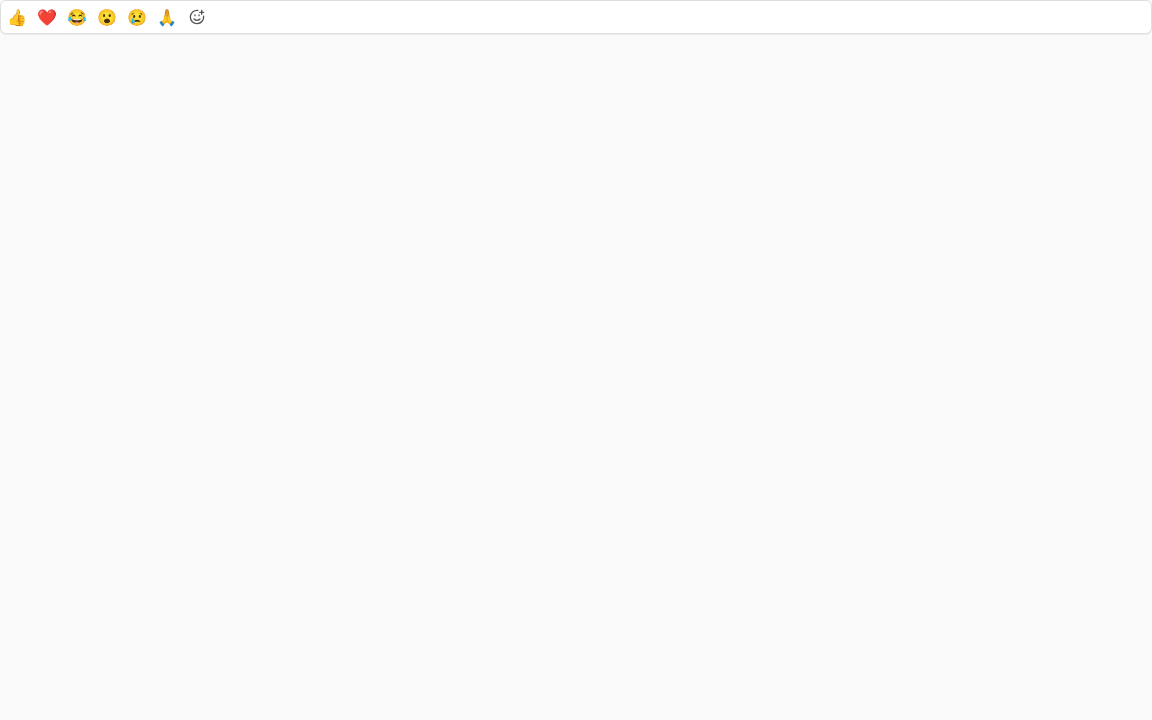
Test: the toolbar of a row (RCT-02) › opens the picker from its last button and picks from it
Click the button named "More reactions": point(197, 17) [183,3,211,31]
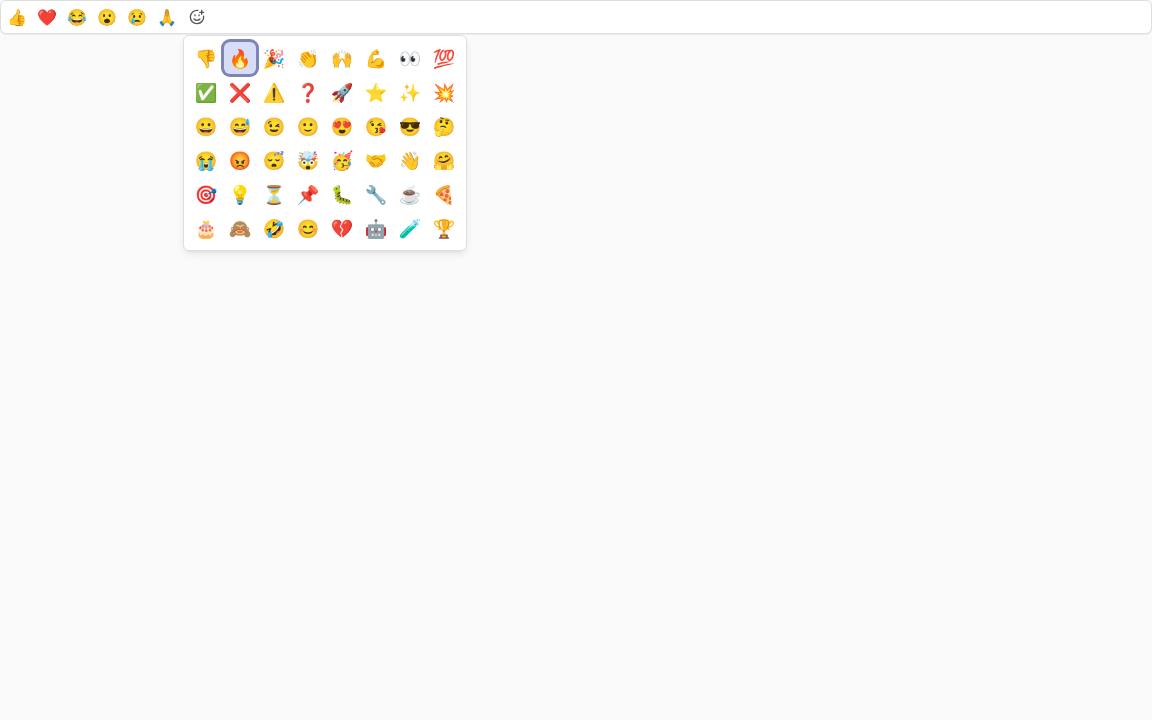
Click the button named "React with 🎯": point(206, 194) [190,178,222,210]
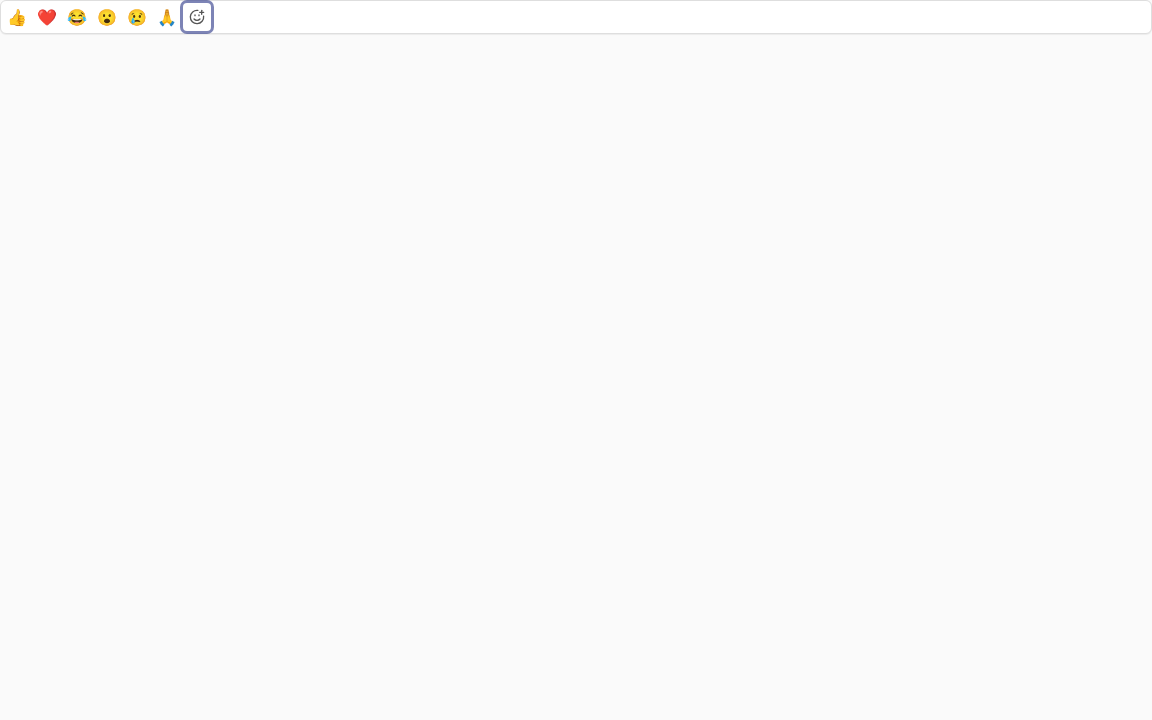
Expected: the dialog is gone
